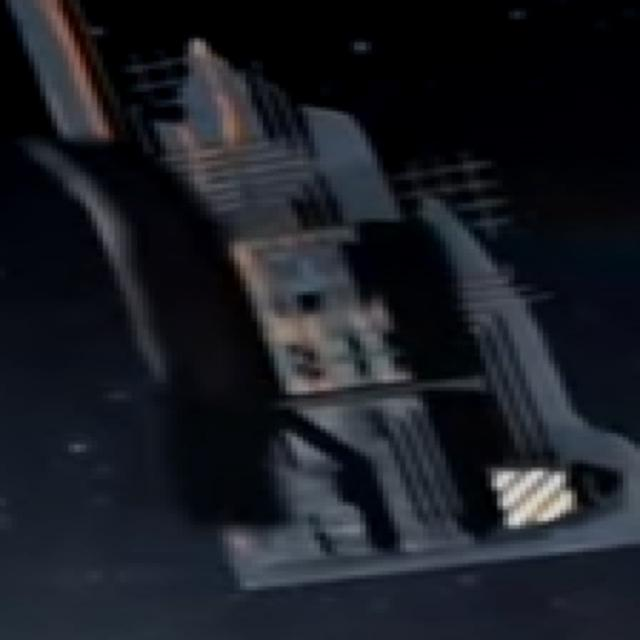large_debris: (3, 0, 640, 624)
